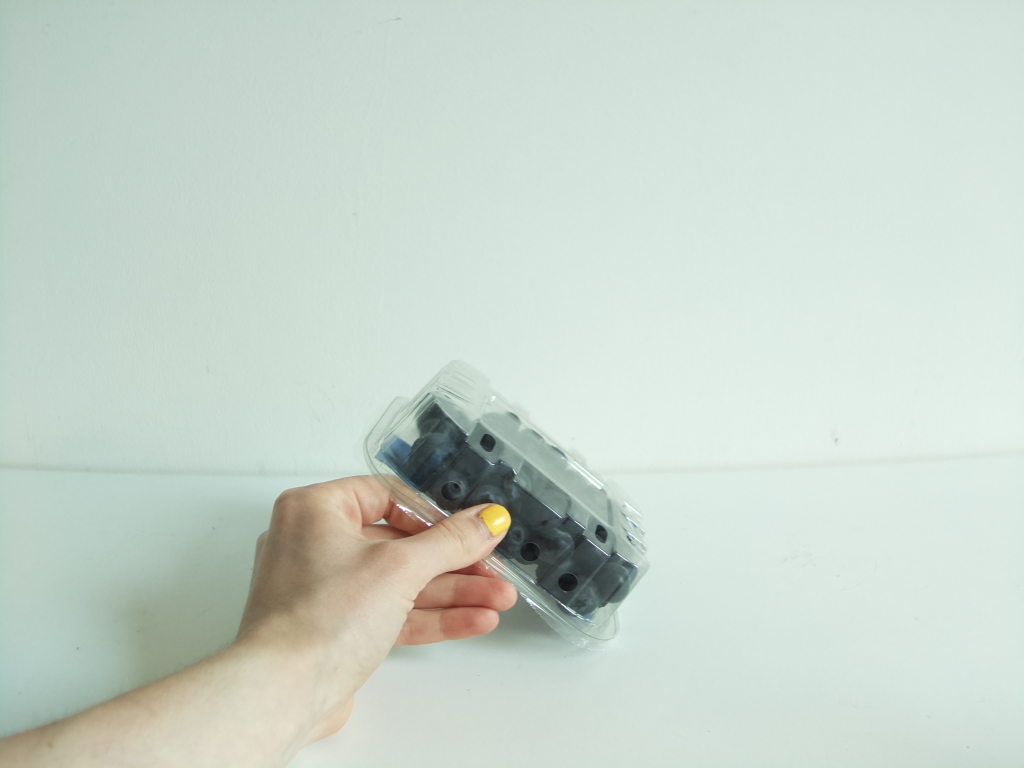soft-fruit: (366, 359, 652, 649)
